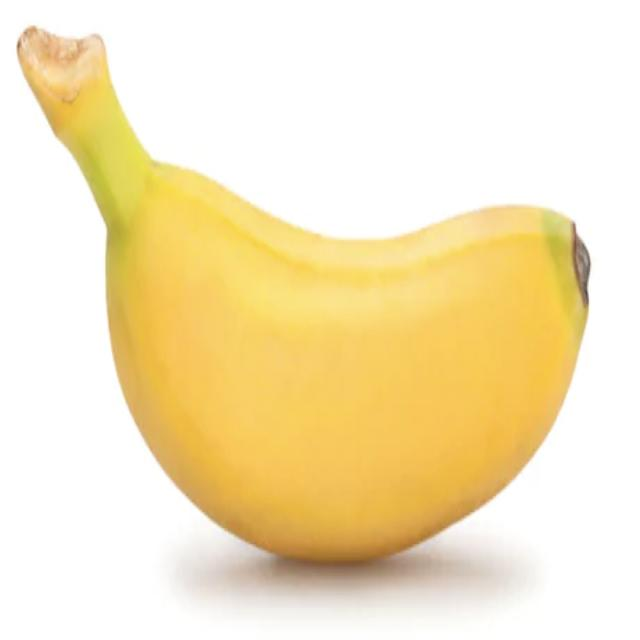fresh-banana: (16, 22, 591, 564)
